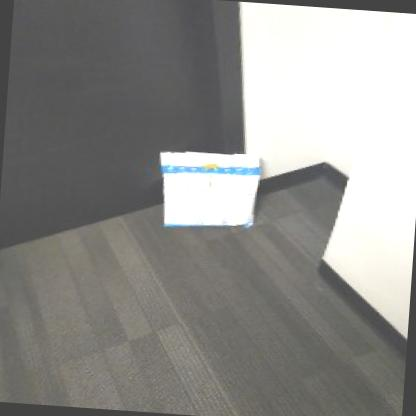plastic_bag: (156, 147, 261, 230)
